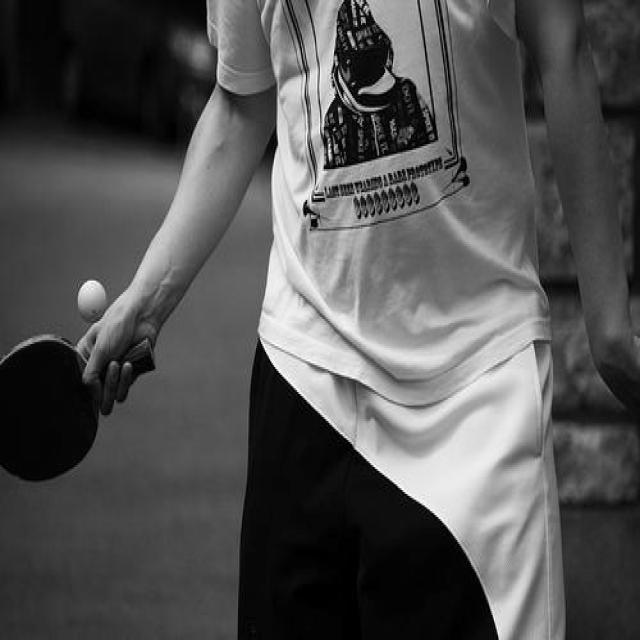ping-pong-ball: (77, 275, 107, 323)
